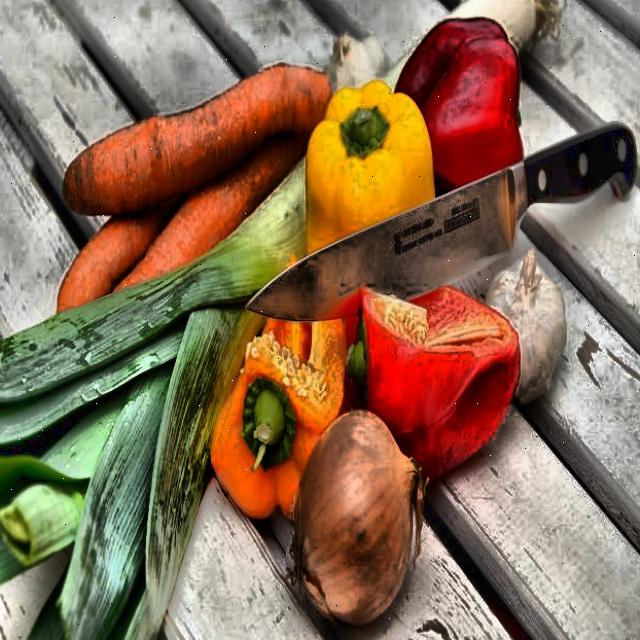knife: (242, 116, 640, 332)
